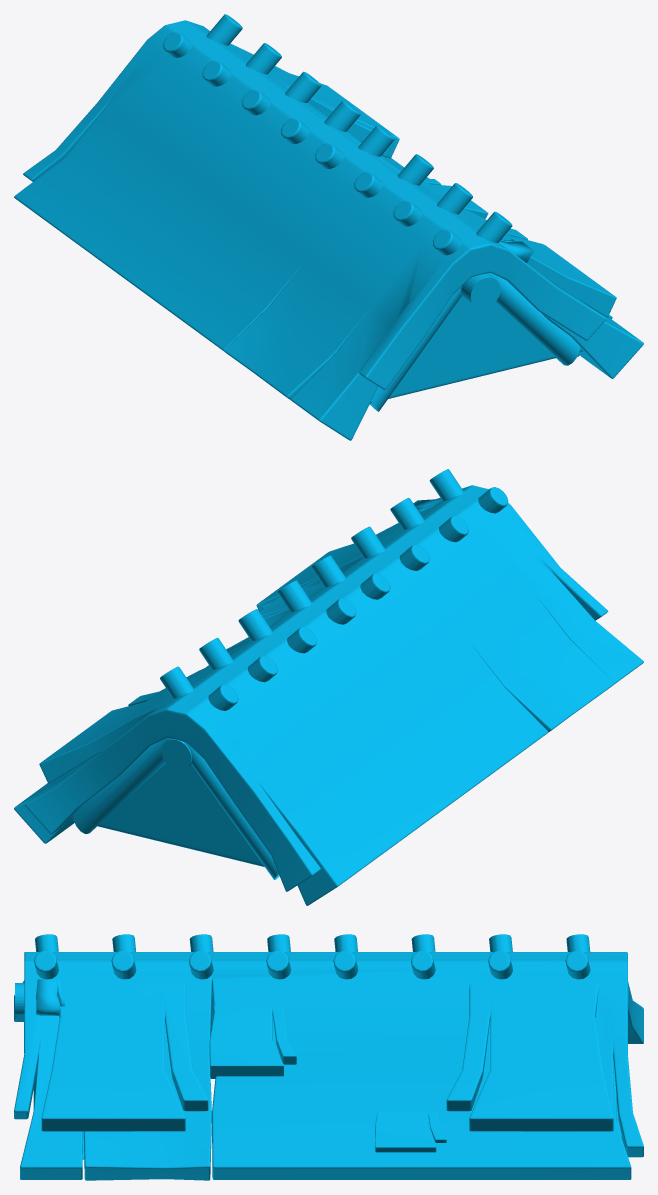
The model's file is SM_Clay_Roof_03.fbx.
The picture shows the model from 3 angles, top to bottom: view 1: azimuth 30°, elevation 25°; view 2: azimuth 150°, elevation 25°; view 3: azimuth 270°, elevation 25°; orthographic projection.
Visible parts, largest first — view 1: SM_Clay_Roof_03; view 2: SM_Clay_Roof_03; view 3: SM_Clay_Roof_03.
Boxes of the visible parts, left/top/right/bottom form: SM_Clay_Roof_03: left=14, top=14, right=643, bottom=440; SM_Clay_Roof_03: left=14, top=469, right=643, bottom=905; SM_Clay_Roof_03: left=14, top=934, right=643, bottom=1180.
Size of the model in its own units: 3 by 1.61 by 5.09.
